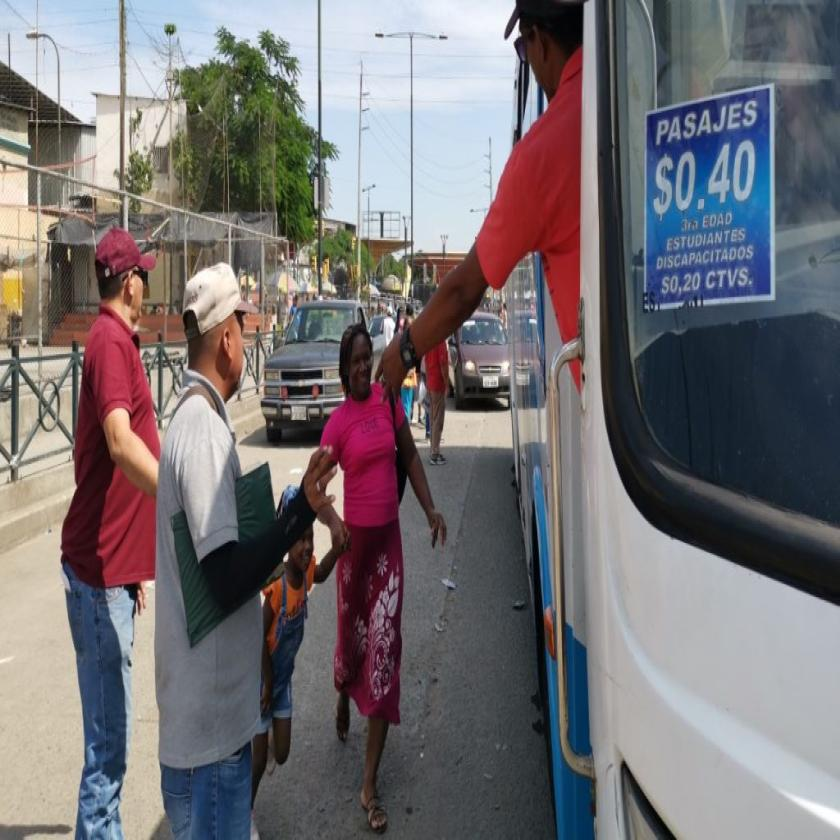Sin_casco: (336, 317, 375, 403)
